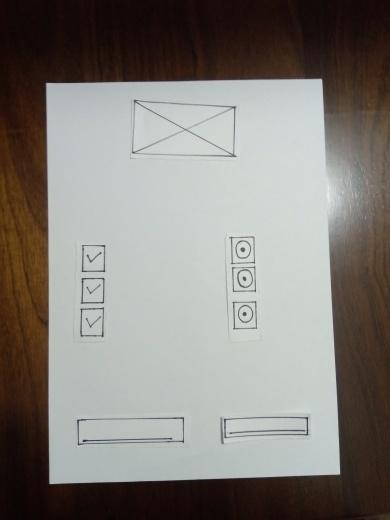checkbox: (83, 244, 105, 271), (80, 311, 102, 338), (79, 274, 101, 301)
img: (136, 102, 234, 156)
radio: (226, 301, 256, 331), (228, 239, 254, 263), (230, 269, 256, 293)
text: (77, 419, 185, 447), (225, 417, 308, 438)
